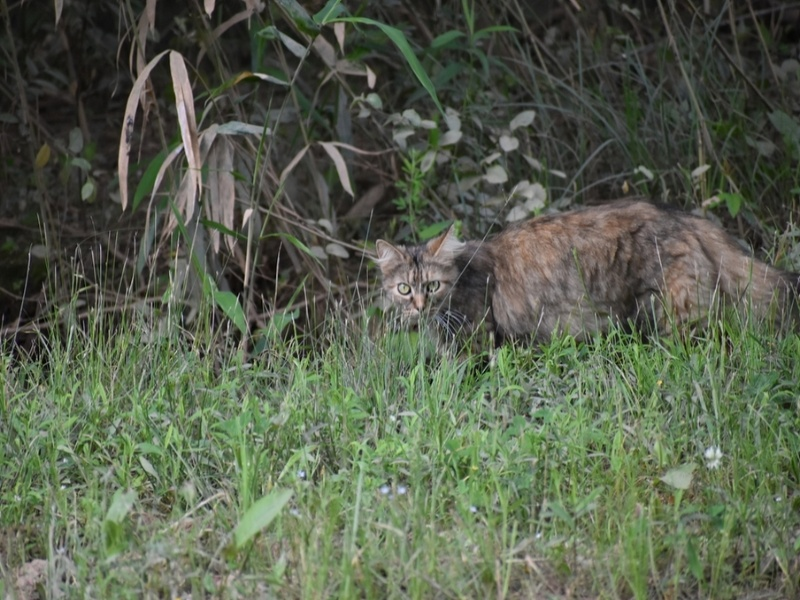cat: (372, 202, 794, 361)
